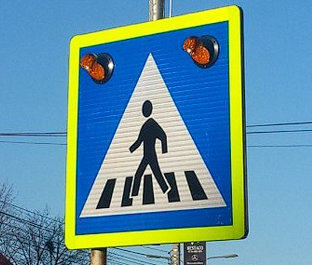trecere_pietoni: (53, 16, 256, 248)
